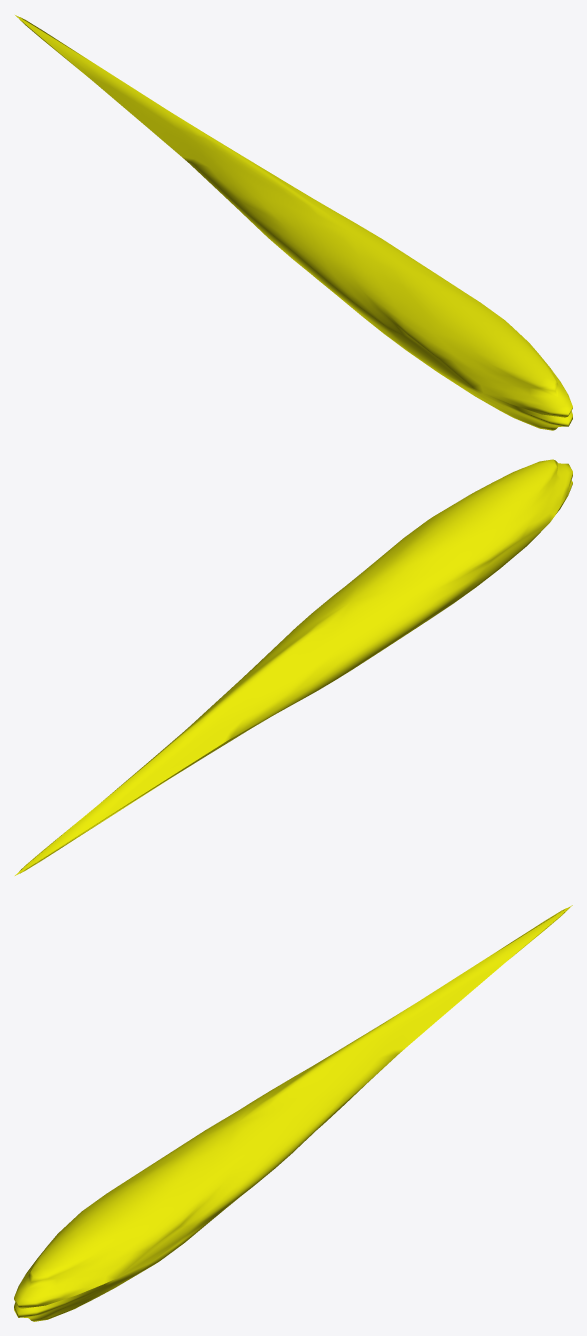
The model's file is Weapon_PenetBall.fbx.
3 renders of one model, top to bottom at view 1: azimuth 30°, elevation 25°; view 2: azimuth 150°, elevation 25°; view 3: azimuth 330°, elevation 25°, orthographic.
Parts seen in each view (by area): view 1: FireBall; view 2: FireBall; view 3: FireBall.
Boxes of the visible parts, x1,y1,x2,y2 form: FireBall: [15, 15, 572, 430]; FireBall: [15, 459, 572, 875]; FireBall: [14, 905, 572, 1321].
Bounding box in the file's own units: 25.01 × 17.33 × 273.
Materials: 1 (1 with a texture image).
